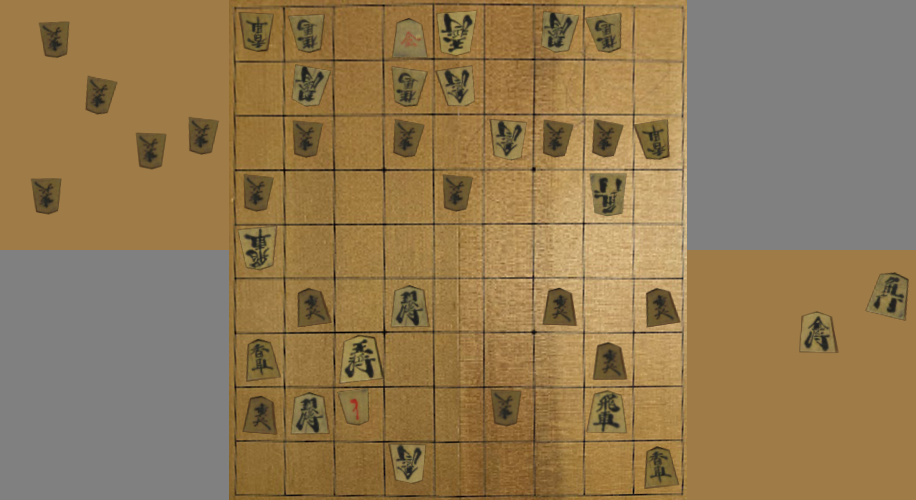A: (533, 277, 586, 332), (631, 440, 682, 494), (287, 278, 337, 333), (236, 385, 284, 440), (634, 280, 684, 331), (584, 333, 633, 385), (335, 333, 383, 386), (383, 5, 432, 56), (385, 280, 433, 331), (237, 333, 283, 386), (587, 389, 633, 442), (284, 387, 330, 438)
B: (382, 114, 434, 170), (533, 4, 586, 58), (333, 387, 385, 442), (282, 7, 334, 59), (583, 115, 634, 168), (435, 58, 484, 113), (581, 169, 632, 221), (235, 225, 285, 278), (483, 386, 533, 439), (484, 116, 533, 170), (534, 115, 583, 169), (235, 170, 284, 224), (284, 61, 334, 113), (383, 442, 432, 495), (436, 5, 484, 59), (634, 114, 682, 168), (584, 6, 633, 58), (384, 61, 433, 113), (433, 170, 481, 222), (236, 8, 282, 60), (285, 117, 332, 167)
C: (864, 269, 910, 325), (795, 311, 841, 359)
D: (35, 19, 77, 62), (132, 130, 171, 172), (29, 178, 68, 216), (187, 113, 221, 156), (83, 76, 118, 117)
